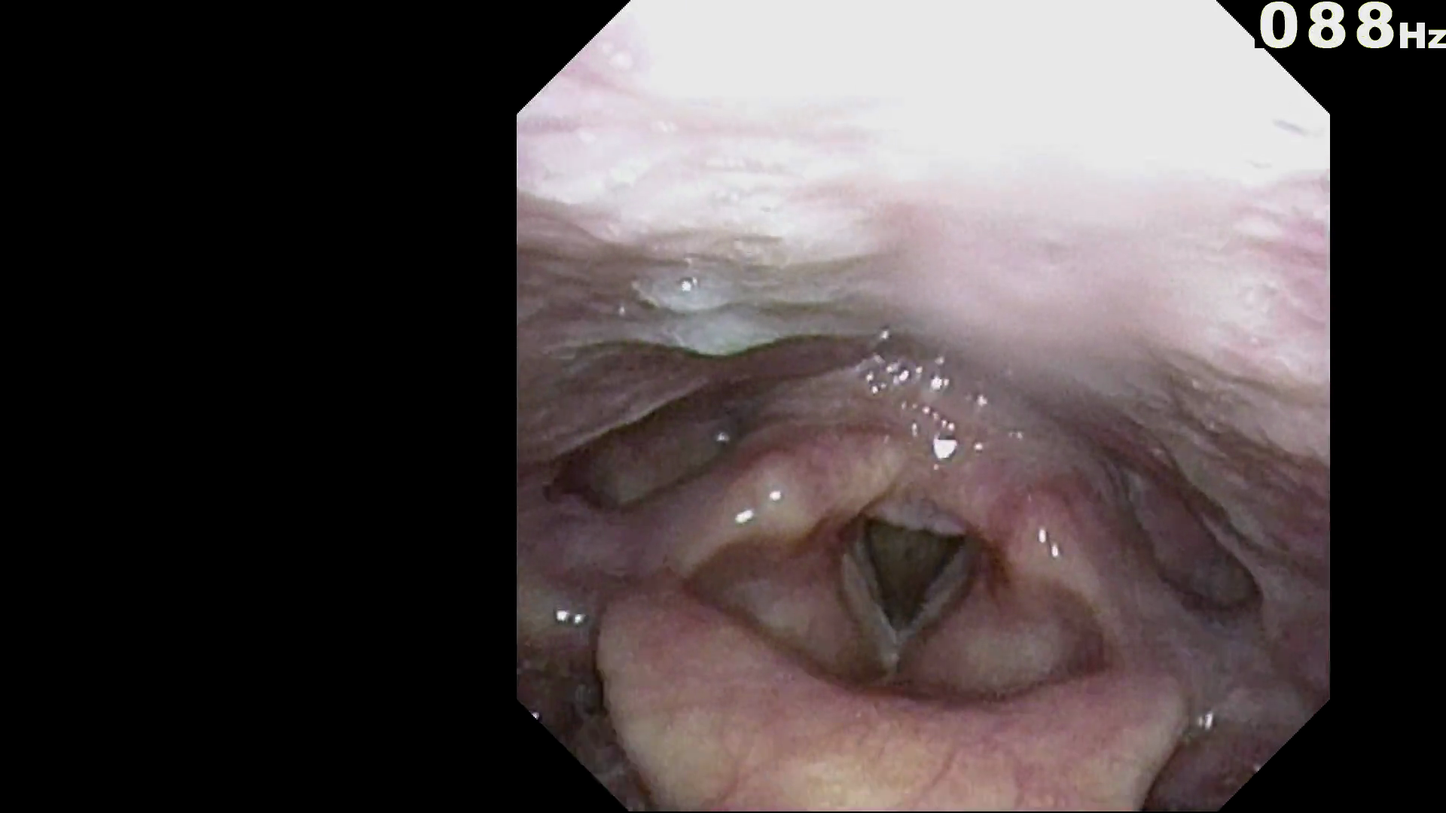epiglottis: (629, 652, 1188, 801)
trachea: (852, 489, 971, 641)
